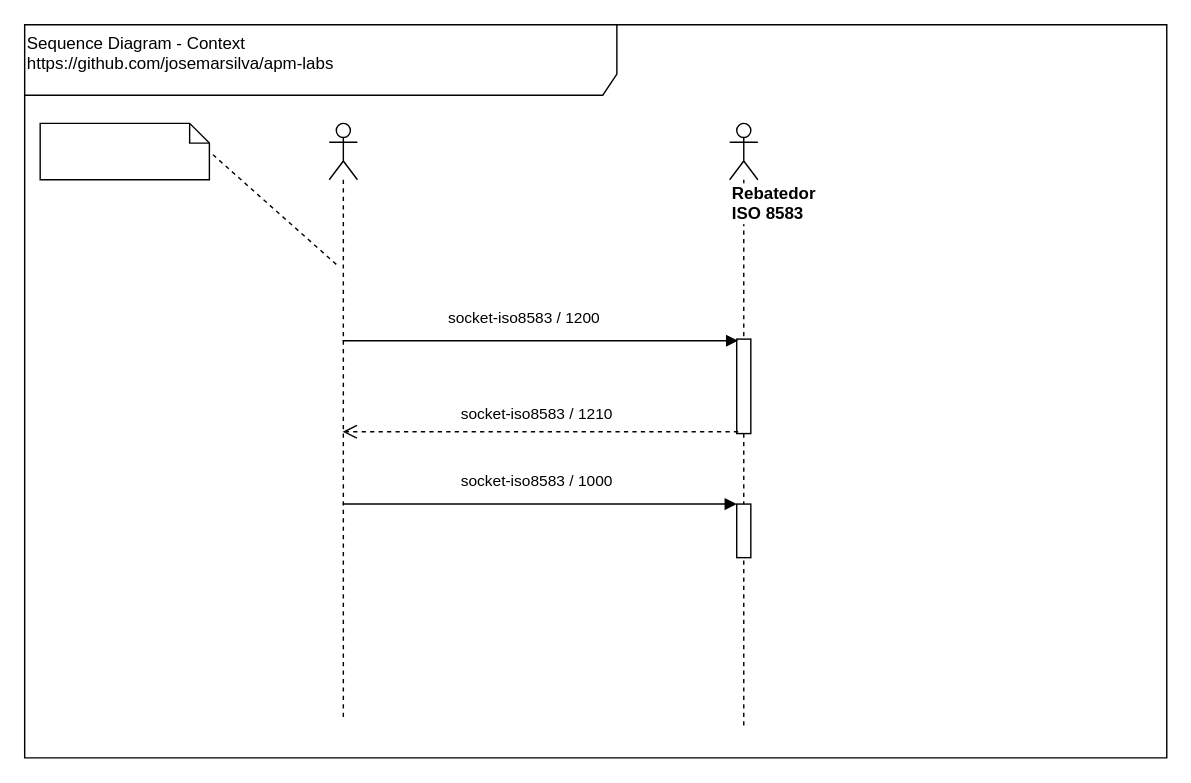
Some shapes in this 1191 by 783 pixel diagram are drawn without their labels. Here are the shapes that lost their labels. From the top down, the box of each, then its label:
(39, 122, 209, 180): Simulação: 1 - Estímulo Inicial
(328, 122, 357, 720): Injetor ISO_8583 Jmeter
